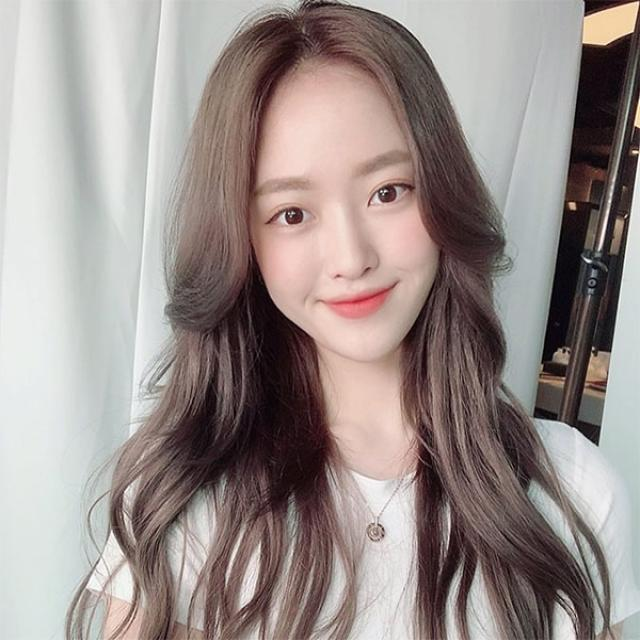Nonhelmet: (184, 10, 485, 371)
